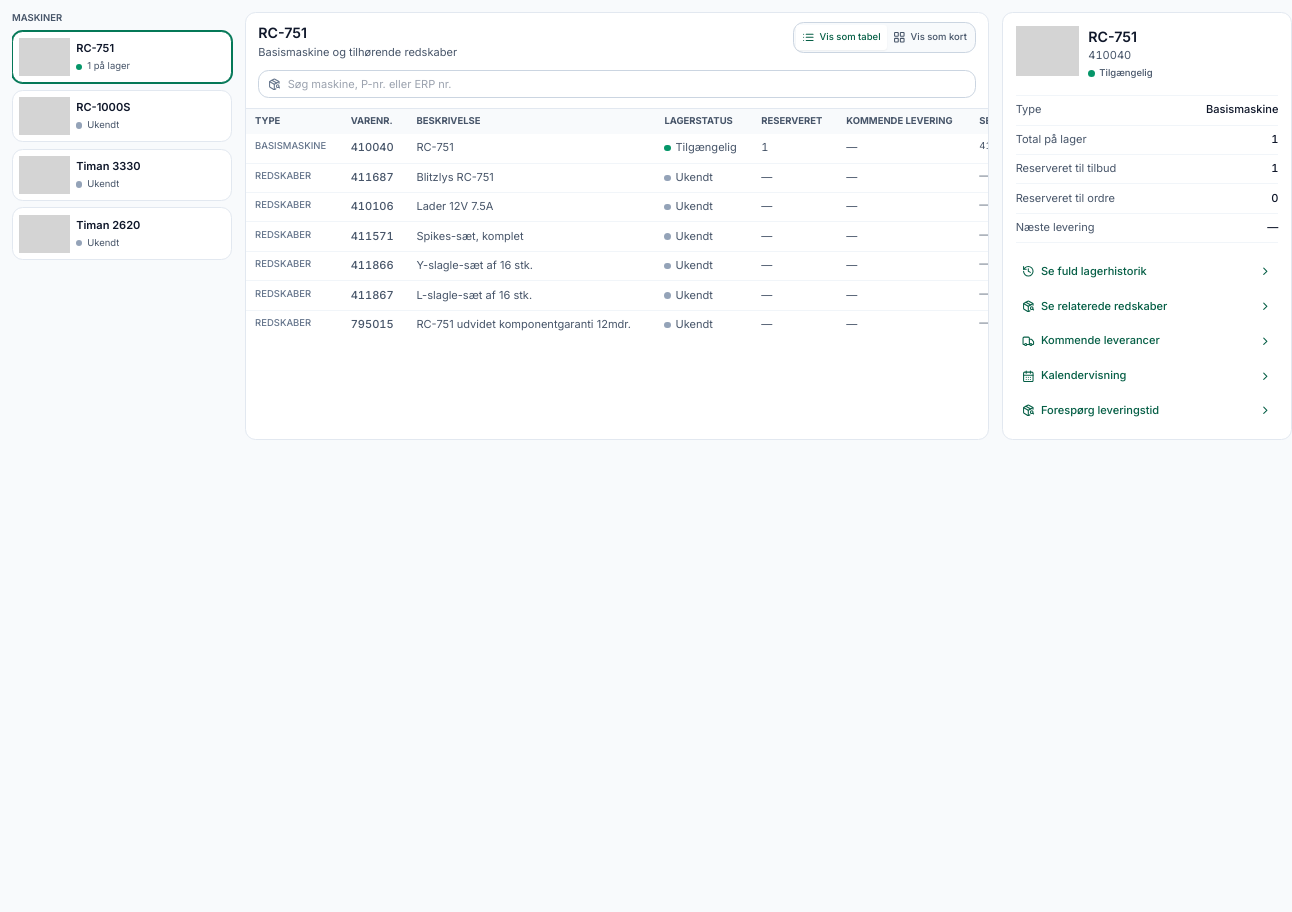
Test: Planning machine workspace › reuses the same rows for card view and keeps actions functional
Later steps or results of the test are not shown.
Click the button "Vis som kort" at point(930, 38), box [887,25,973,50]
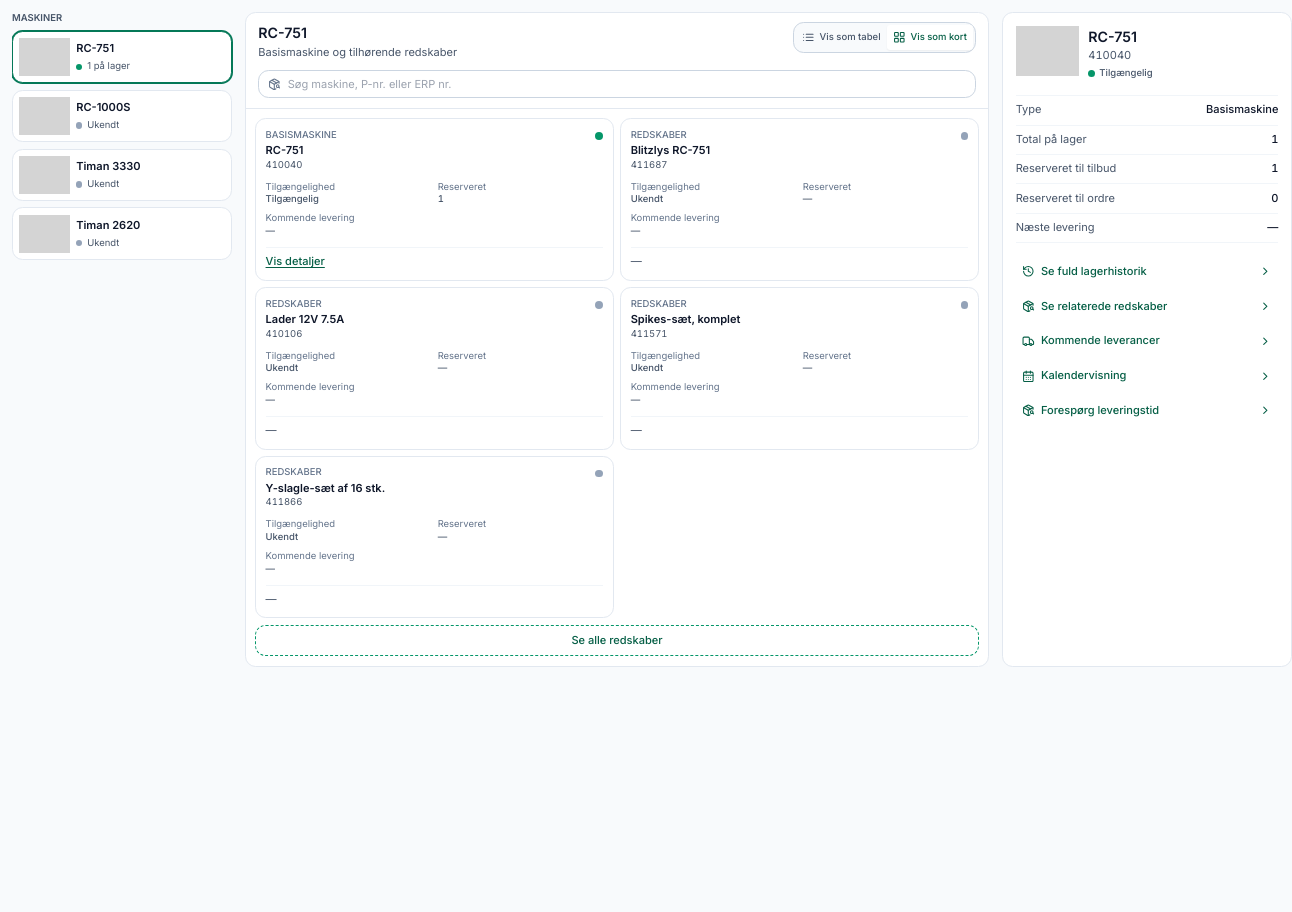
Expected: the button "Vis som kort" is pressed, [887,25,973,50]
